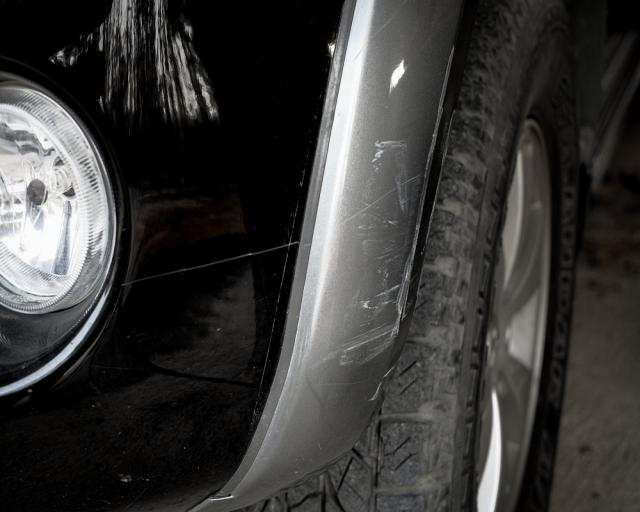scratch: (334, 130, 424, 373)
